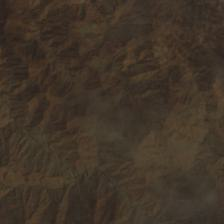landslides: (16, 44, 35, 50)
